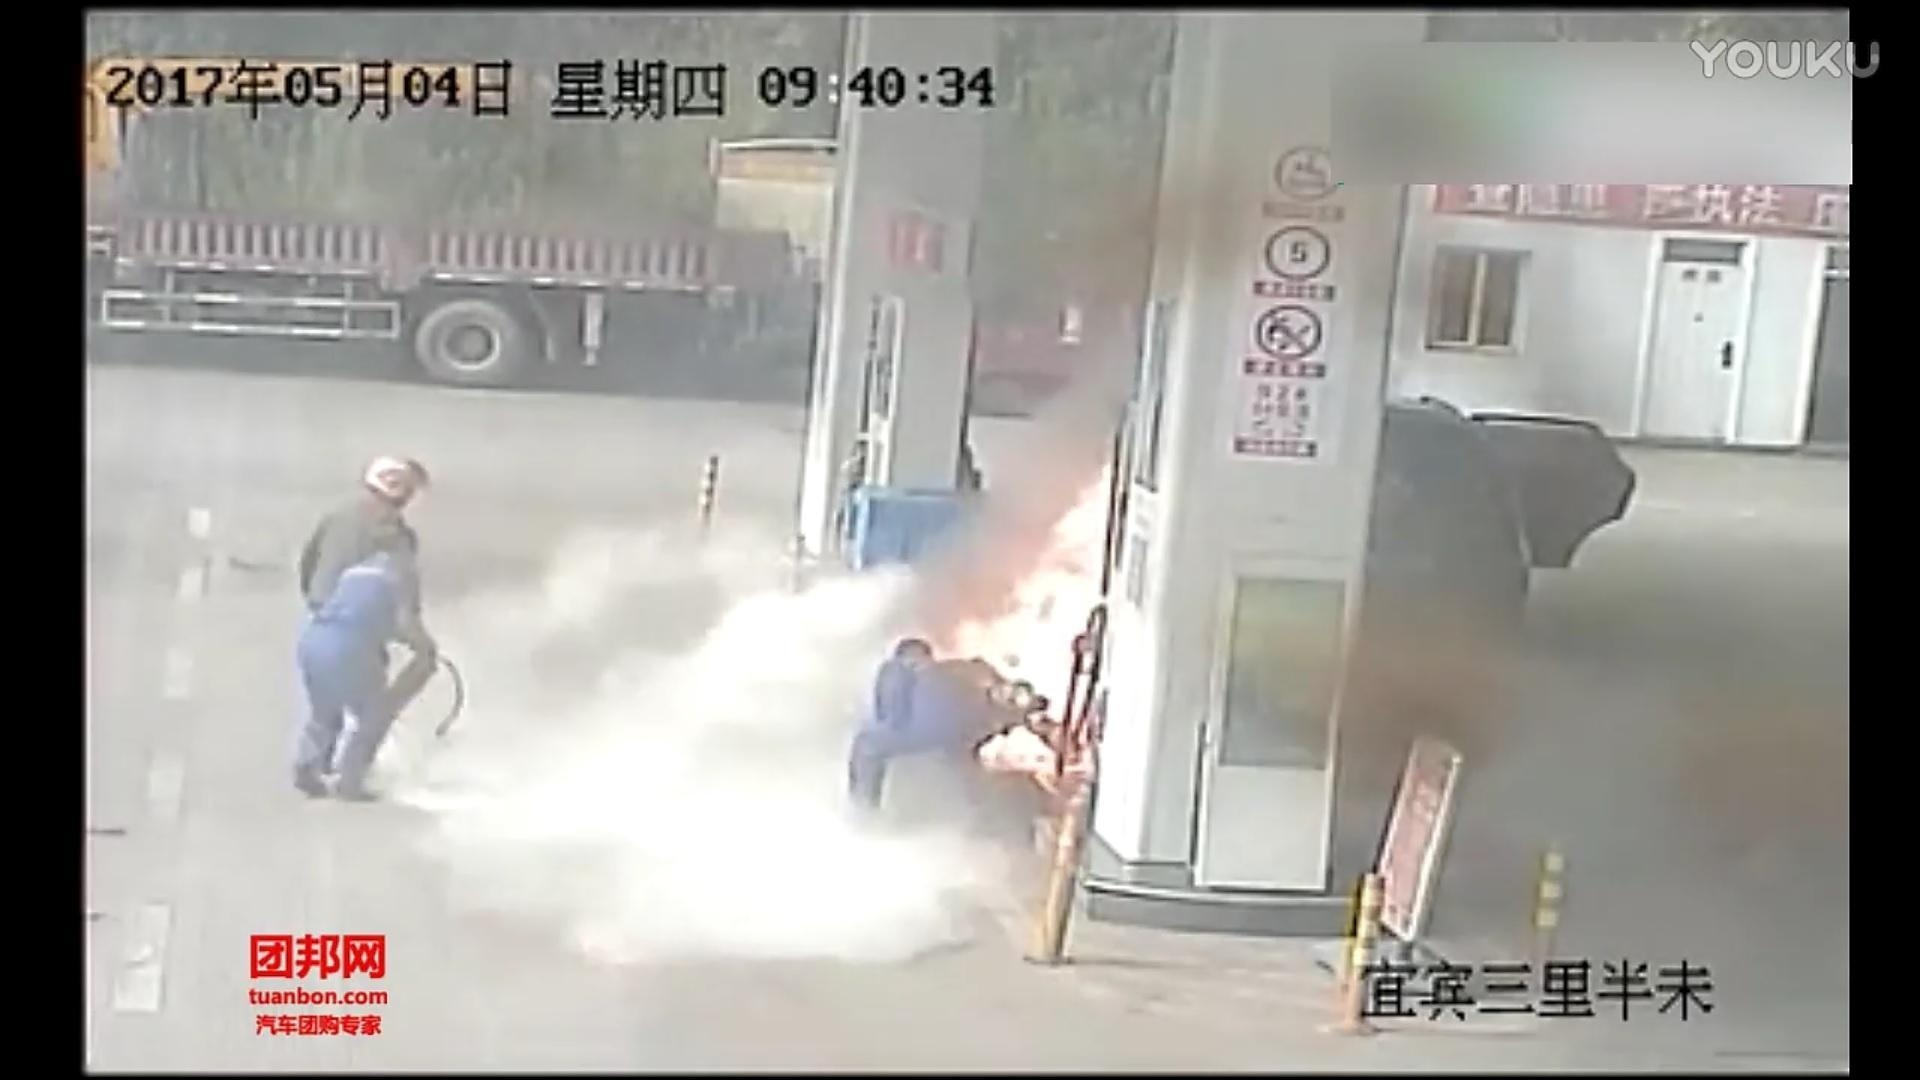fire: (943, 465, 1141, 775)
